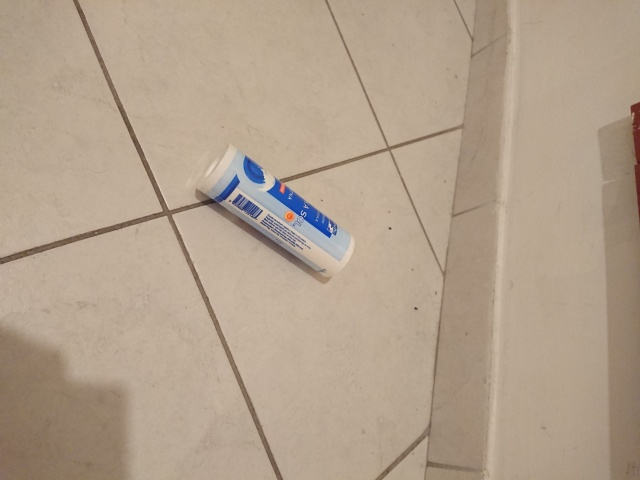Solana Pag Fine Sea Salt 250g: (190, 139, 358, 282)
